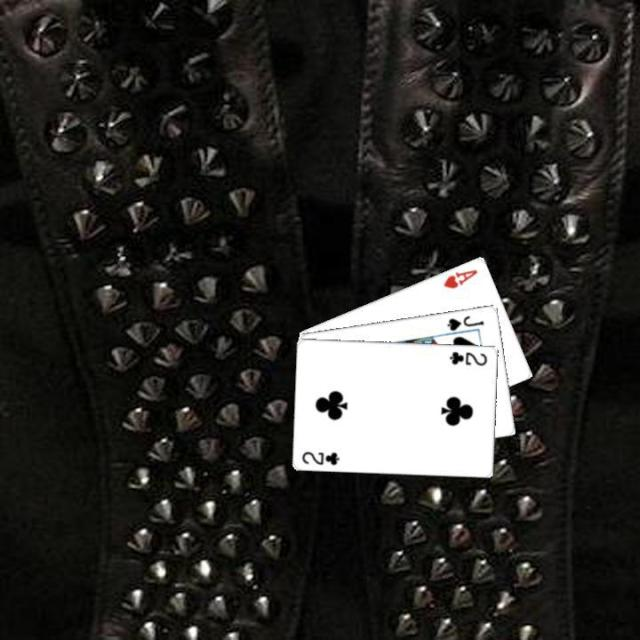2C: (299, 447, 341, 467), (446, 348, 489, 367)
AH: (439, 265, 479, 290)
JS: (444, 311, 486, 333)
